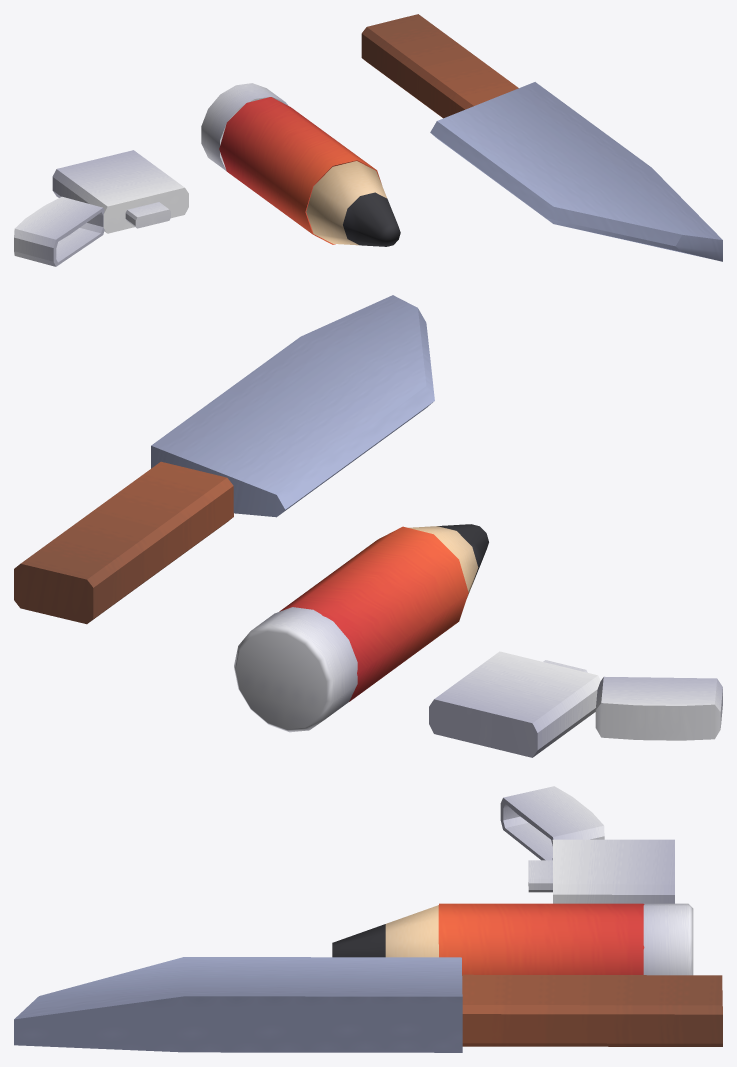
Rendered from scene_items.fbx.
3 renders of one model, top to bottom at view 1: azimuth 30°, elevation 25°; view 2: azimuth 150°, elevation 25°; view 3: azimuth 270°, elevation 25°, orthographic. The views are drawn at different scales.
Parts seen in each view (by area): view 1: Obj_Knife, Obj_Pen, Obj_Lighter; view 2: Obj_Knife, Obj_Pen, Obj_Lighter; view 3: Obj_Knife, Obj_Pen, Obj_Lighter.
Boxes of the visible parts, x1=… form: Obj_Knife: x1=361, y1=14, x2=722, y2=261; Obj_Pen: x1=201, y1=83, x2=400, y2=246; Obj_Lighter: x1=14, y1=150, x2=188, y2=266; Obj_Knife: x1=14, y1=295, x2=434, y2=624; Obj_Pen: x1=234, y1=524, x2=488, y2=732; Obj_Lighter: x1=429, y1=651, x2=722, y2=757; Obj_Knife: x1=14, y1=957, x2=722, y2=1052; Obj_Pen: x1=332, y1=903, x2=693, y2=975; Obj_Lighter: x1=500, y1=786, x2=674, y2=903.
Bounding box in the file's own units: 2.99 × 0.6257 × 3.2.
Materials: 1 (1 with a texture image).
